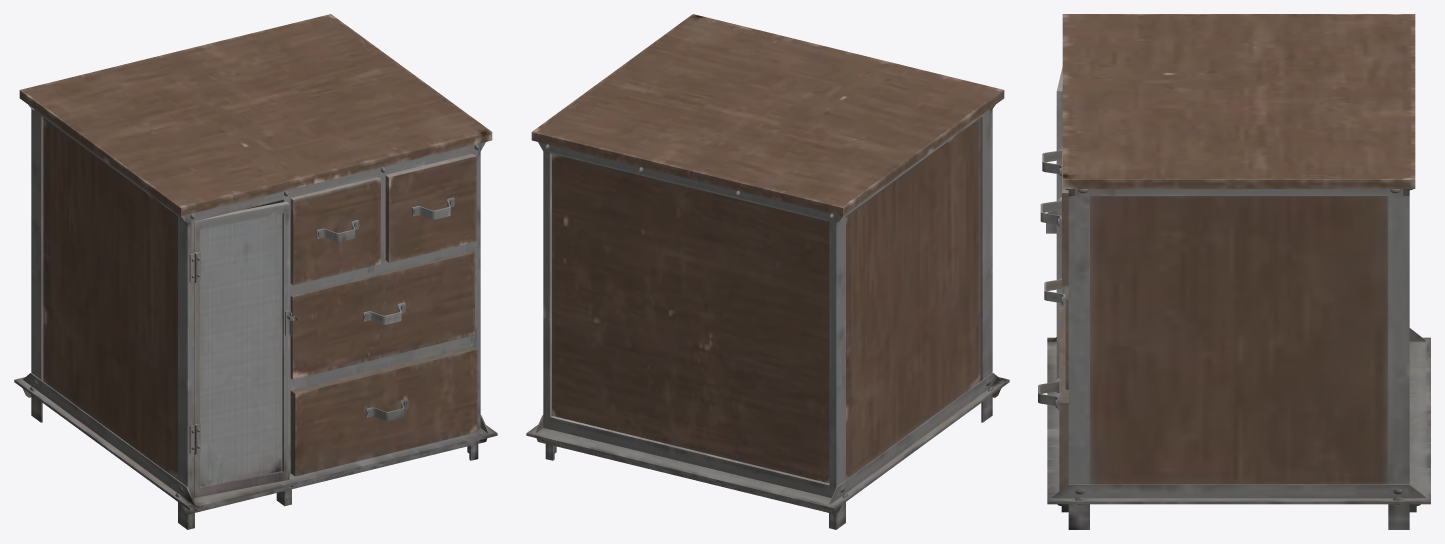
Rendered from ph-woodentable-03.glb.
3 views of the same model, side by side, from view 1: azimuth 30°, elevation 25°; view 2: azimuth 150°, elevation 25°; view 3: azimuth 270°, elevation 25° (orthographic). The views are drawn at different scales.
Parts seen in each view (by area): view 1: WoodenTable_03_drawer02; view 2: WoodenTable_03_drawer02; view 3: WoodenTable_03_drawer02.
Part boxes in pixels (x1,y1,x2,y2): WoodenTable_03_drawer02: (14, 14, 497, 529); WoodenTable_03_drawer02: (526, 14, 1009, 529); WoodenTable_03_drawer02: (1038, 14, 1430, 529).
Size of the model in its own units: 1 by 1 by 1.
Materials: 1 (1 with a texture image).
